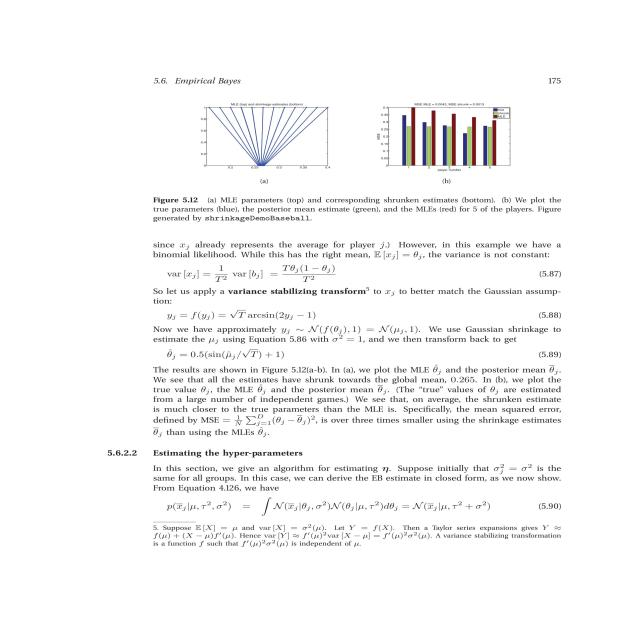diagram: (123, 84, 559, 233)
